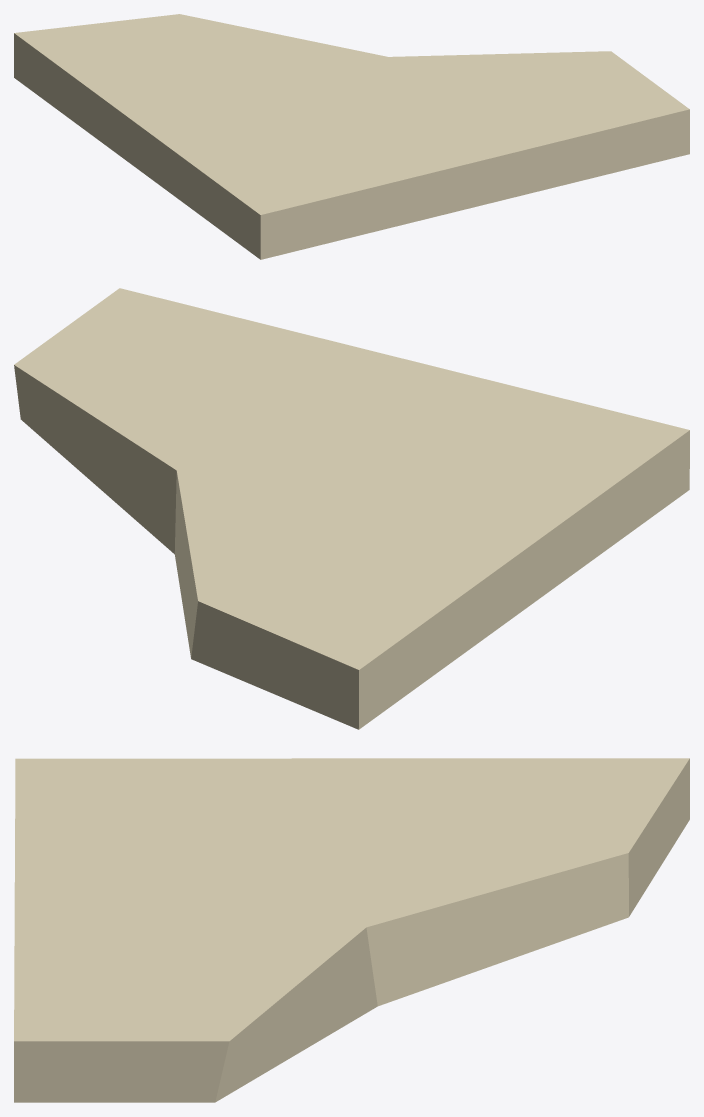
The model's file is Destroy_Plate_5.fbx.
3 renders of one model, top to bottom at view 1: azimuth 30°, elevation 25°; view 2: azimuth 150°, elevation 25°; view 3: azimuth 270°, elevation 25°, orthographic. The views are drawn at different scales.
Parts seen in each view (by area): view 1: Destroy_Plate_5; view 2: Destroy_Plate_5; view 3: Destroy_Plate_5.
Part boxes in pixels (x1,y1,x2,y2): Destroy_Plate_5: (14, 14, 689, 259); Destroy_Plate_5: (14, 288, 689, 729); Destroy_Plate_5: (14, 758, 689, 1102).
Size of the model in its own units: 300 by 40.03 by 301.
